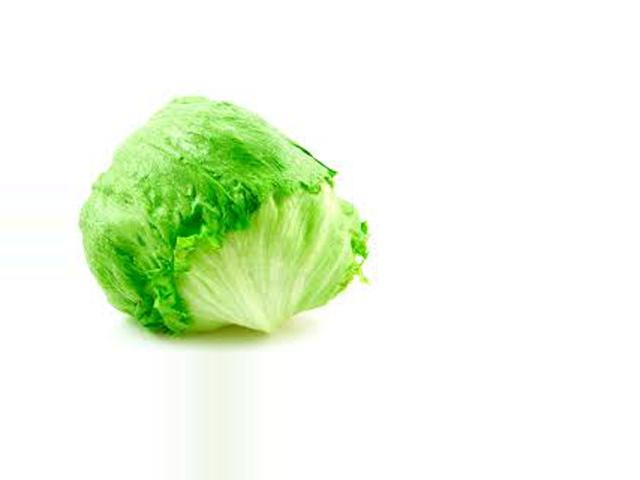lettuce: (69, 86, 366, 335)
